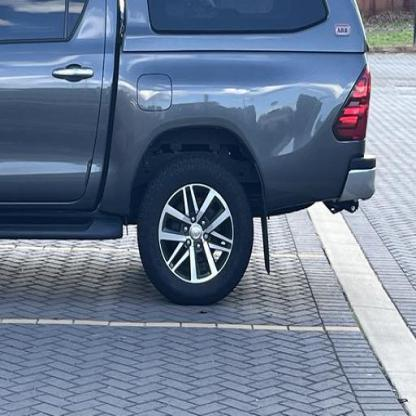Tire: (137, 160, 255, 306)
